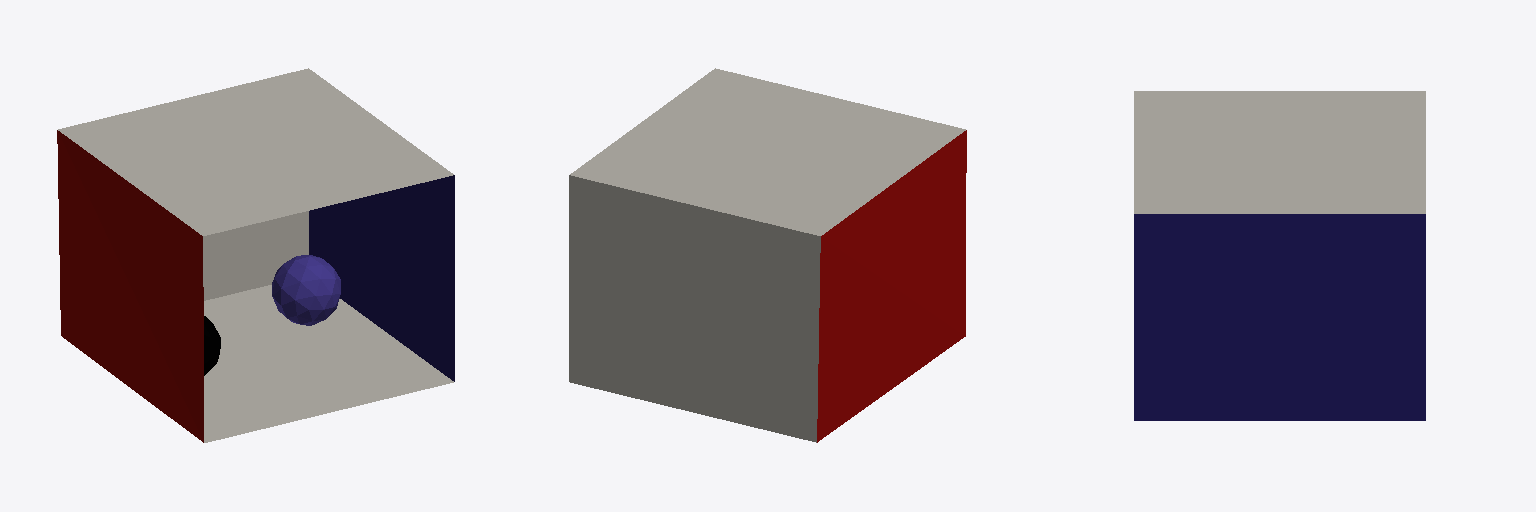
The model's file is CornellBox-Sphere-1366.obj.
3 renders of one model, left to right at view 1: azimuth 30°, elevation 25°; view 2: azimuth 150°, elevation 25°; view 3: azimuth 270°, elevation 25°, orthographic.
Parts seen in each view (by area): view 1: ceiling, leftWall, floor, rightWall, backWall, leftSphere, rightSphere; view 2: backWall, ceiling, leftWall; view 3: rightWall, ceiling.
Boxes of the visible parts, box(x1,y1,x2,y2) form: ceiling: box(58, 68, 453, 235); leftWall: box(57, 130, 203, 442); floor: box(204, 285, 453, 442); rightWall: box(309, 175, 454, 381); backWall: box(203, 211, 308, 300); leftSphere: box(272, 255, 340, 325); rightSphere: box(204, 316, 220, 375); backWall: box(569, 175, 820, 442); ceiling: box(570, 68, 965, 235); leftWall: box(817, 130, 966, 442); rightWall: box(1134, 214, 1425, 420); ceiling: box(1134, 91, 1425, 213).
Bounding box in the file's own units: 2.02 × 1.59 × 2.03.